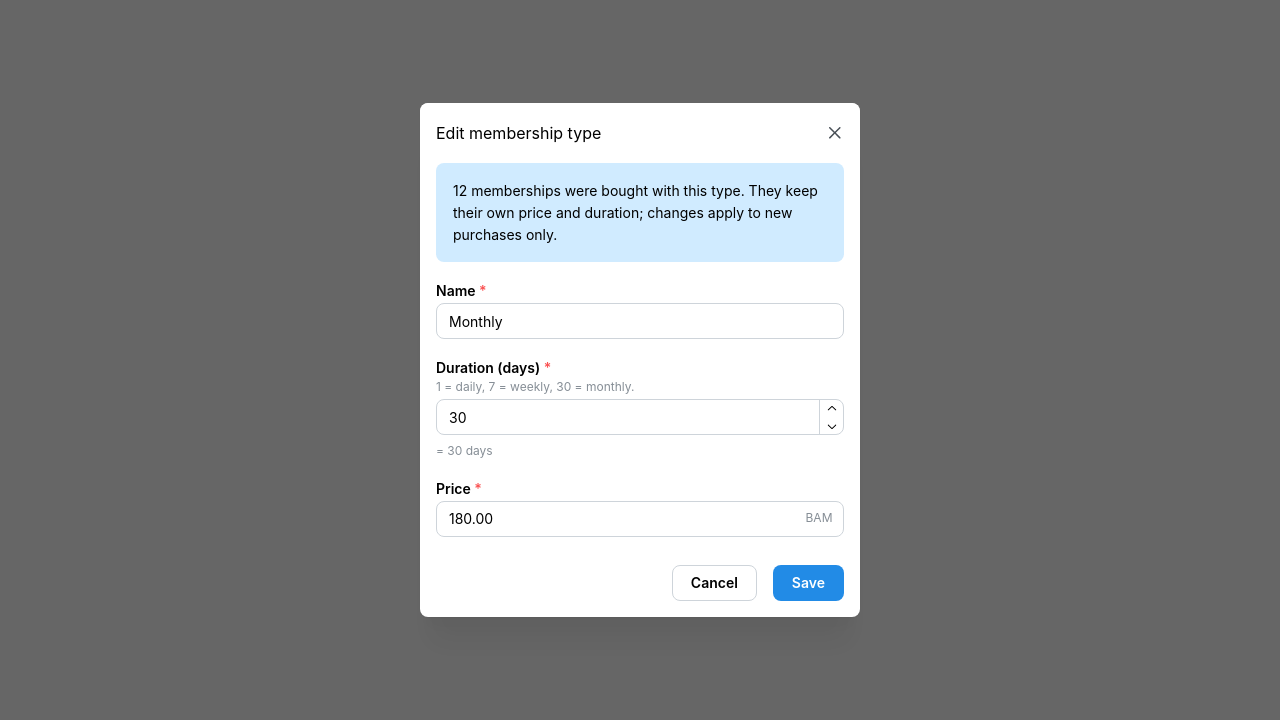
MembershipTypeFormModal › shows a taken name under the name field
What coordinates should you click on to do the following:
click the button "Save"
I would click on:
 (808, 583)
Its box is [773,565,844,601].
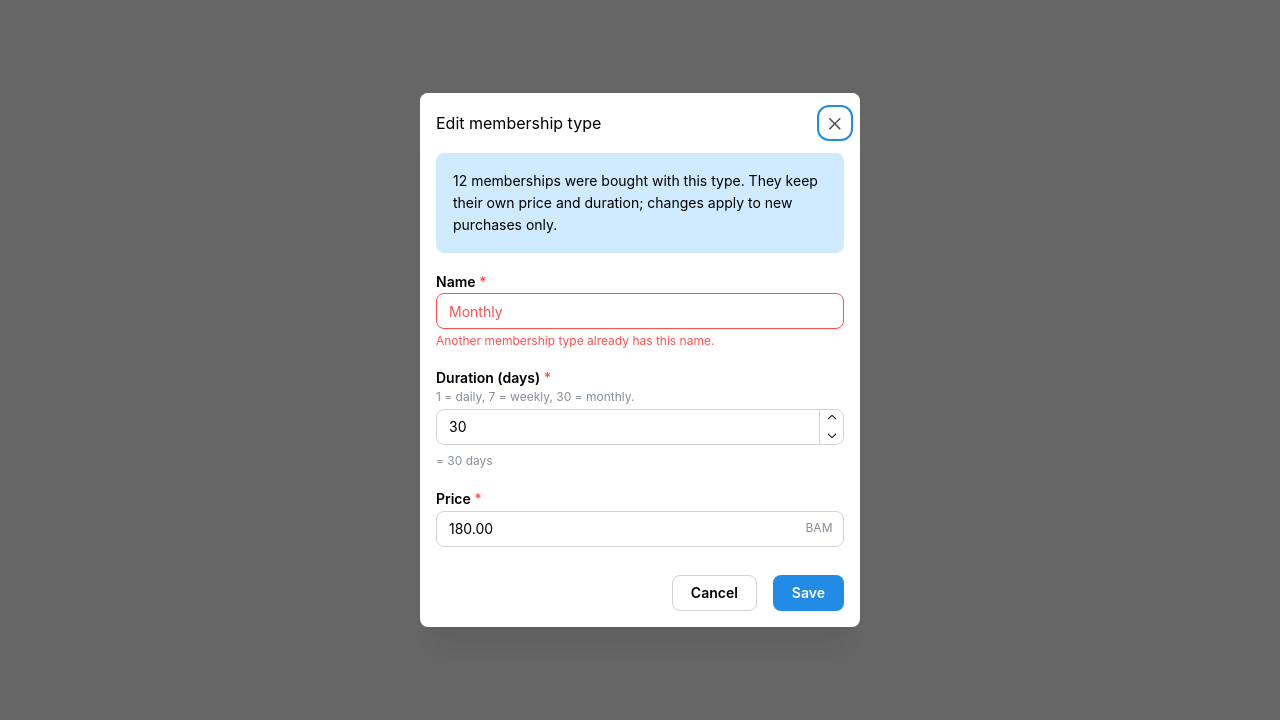
Now the text "Another membership type already has this name." is shown, box [436,333,714,348]
